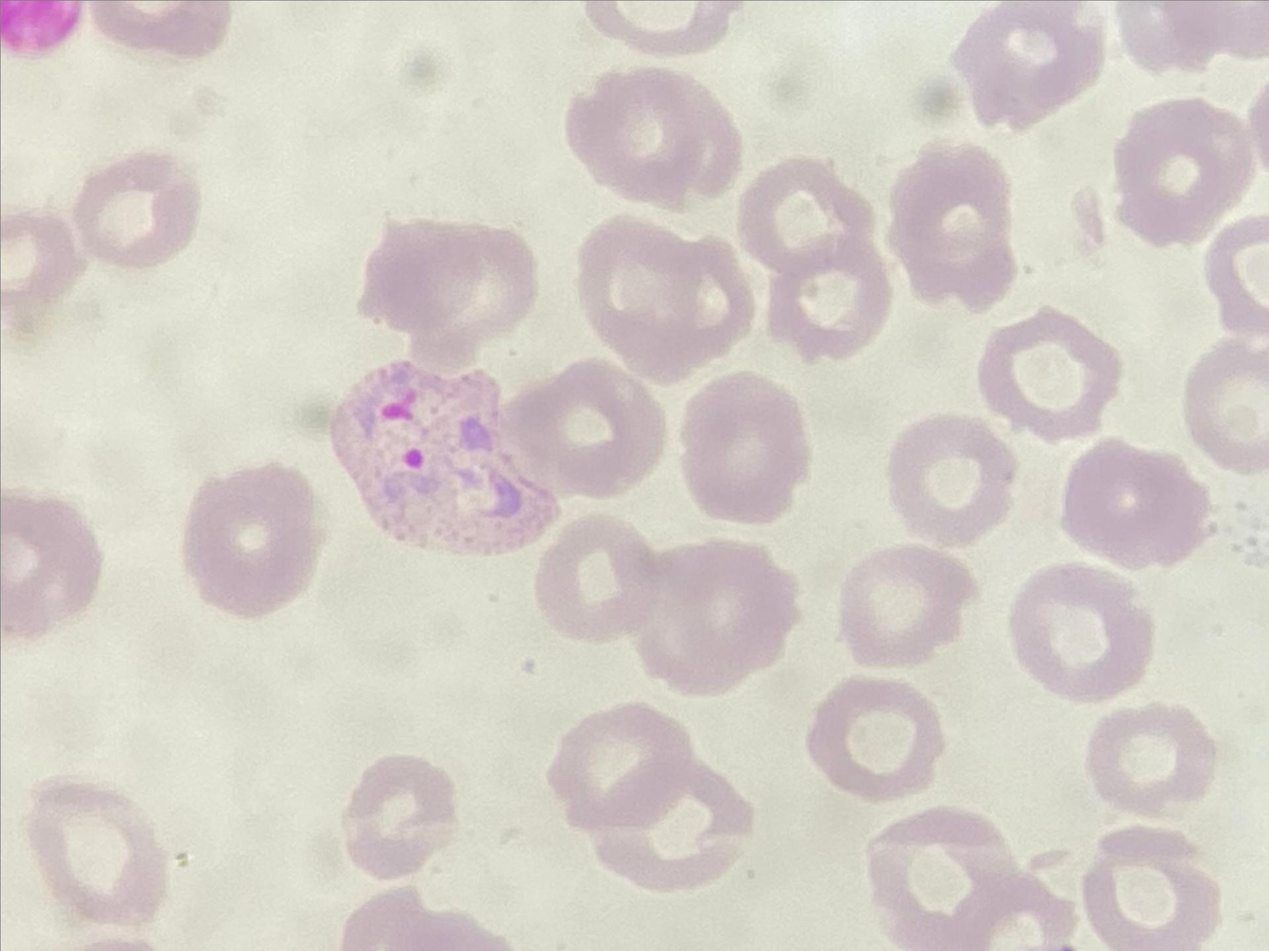Infected: (330, 353, 552, 550)
Uninfected: (582, 221, 759, 367), (500, 355, 668, 500), (632, 547, 798, 690), (185, 459, 329, 618), (1110, 95, 1247, 262), (573, 67, 727, 215), (864, 807, 1011, 951), (26, 770, 162, 924), (683, 366, 808, 531), (1060, 435, 1207, 574), (890, 142, 1022, 295), (538, 701, 695, 827), (980, 309, 1119, 448), (595, 765, 748, 887), (1018, 562, 1153, 700), (806, 675, 956, 797), (961, 3, 1097, 132), (888, 410, 1019, 540), (1088, 697, 1219, 825), (844, 547, 975, 675), (75, 151, 206, 277), (335, 748, 466, 874), (1084, 825, 1213, 951), (538, 512, 658, 642), (423, 239, 533, 376), (747, 157, 871, 268), (769, 241, 889, 353), (357, 221, 485, 326), (1192, 338, 1269, 468)
